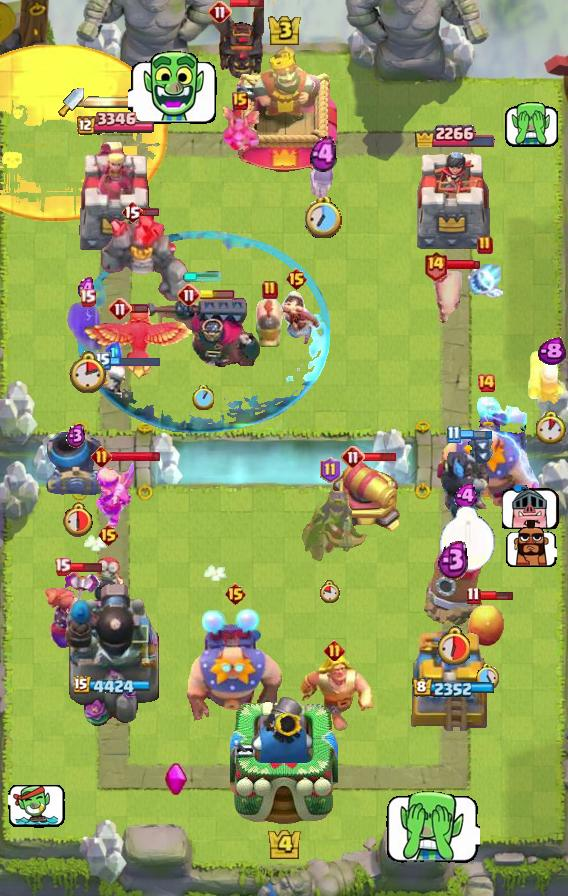archer-evolution: (206, 0, 264, 82)
arrows: (93, 461, 134, 526)
bar: (73, 140, 155, 256)
barbarian-hut: (290, 486, 370, 564)
bat: (467, 259, 503, 299)
cannoneer-tower: (99, 208, 193, 304)
electro-spirit: (438, 539, 471, 581), (311, 135, 338, 173), (538, 337, 566, 366), (454, 484, 480, 508), (76, 277, 98, 300), (66, 423, 86, 448), (105, 342, 122, 364)
elixir: (440, 506, 497, 572), (70, 351, 107, 393), (306, 198, 343, 239), (436, 626, 470, 665), (59, 501, 93, 537), (536, 412, 566, 445), (477, 664, 500, 690), (192, 385, 214, 410), (320, 580, 340, 603)
emote: (111, 450, 162, 463), (109, 357, 161, 368), (445, 259, 481, 271), (362, 451, 398, 463), (458, 428, 493, 440), (68, 561, 103, 573), (478, 591, 514, 602), (199, 290, 235, 300), (231, 0, 266, 8), (130, 302, 150, 314), (141, 207, 160, 217)
executioner: (254, 297, 286, 349)
giant: (433, 269, 467, 327)
goblin: (309, 163, 340, 201)
goblin-hut: (292, 654, 376, 732)
golden-knight: (83, 306, 193, 382)
heal-spirit: (97, 364, 129, 400)
hog: (468, 600, 506, 648)
ice-golem: (90, 548, 126, 606)
ice-spirit: (183, 271, 223, 283)
inferno-dragon: (438, 434, 496, 534)
inferno-tower: (143, 296, 263, 372)
king-tower: (230, 692, 338, 826), (231, 45, 337, 181)
king-tower-bar: (84, 95, 156, 109)
little-prince: (433, 390, 539, 518), (182, 607, 288, 729)
magic-archer: (423, 532, 483, 626)
musketeer: (46, 431, 106, 495)
pad_0: (76, 231, 330, 437)
phoenix-egg: (0, 46, 168, 223)
queen-tower: (403, 621, 503, 731), (410, 144, 496, 255)
royal-delivery: (219, 104, 261, 152)
royal-recruit: (327, 459, 405, 535)
selected: (413, 119, 496, 147), (74, 112, 154, 137), (413, 677, 496, 699), (73, 675, 154, 697)
skeleton: (384, 788, 479, 864), (129, 50, 219, 126), (502, 102, 560, 148), (7, 782, 64, 828), (505, 519, 557, 569), (502, 485, 560, 529)
skeleton-dragon: (270, 288, 322, 346)
skeleton-king-skill: (164, 762, 188, 796)
spear-goblin: (67, 302, 107, 350)
tesla-evolution: (46, 573, 103, 652)
text: (424, 251, 449, 281), (208, 0, 232, 24), (177, 283, 201, 307), (108, 297, 132, 321), (341, 445, 365, 469), (285, 267, 308, 291), (97, 523, 120, 547), (225, 582, 248, 606), (320, 457, 341, 483), (121, 200, 143, 224), (91, 446, 112, 467), (323, 639, 344, 660), (476, 373, 496, 393), (53, 556, 71, 575), (80, 288, 97, 307), (477, 235, 493, 255), (262, 280, 278, 300), (232, 92, 248, 110), (95, 352, 111, 370), (447, 425, 462, 443), (467, 587, 481, 606)
tombstone: (526, 348, 568, 406)
tower-bar: (63, 579, 165, 731)
